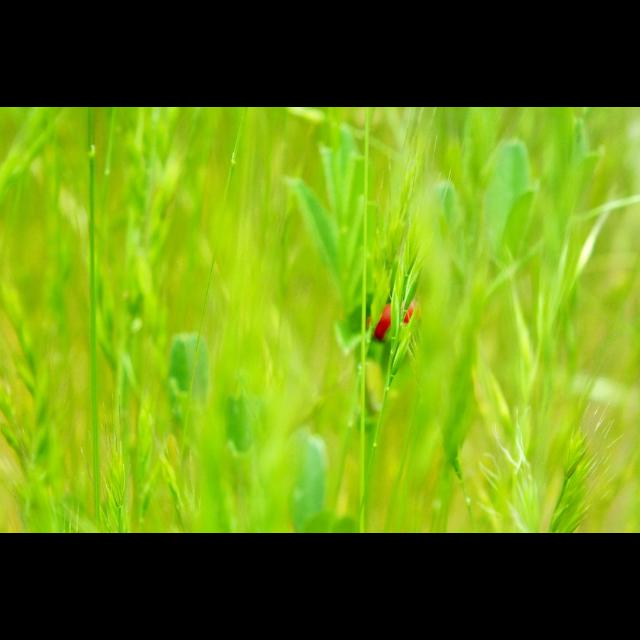Flower: (358, 302, 422, 350)
